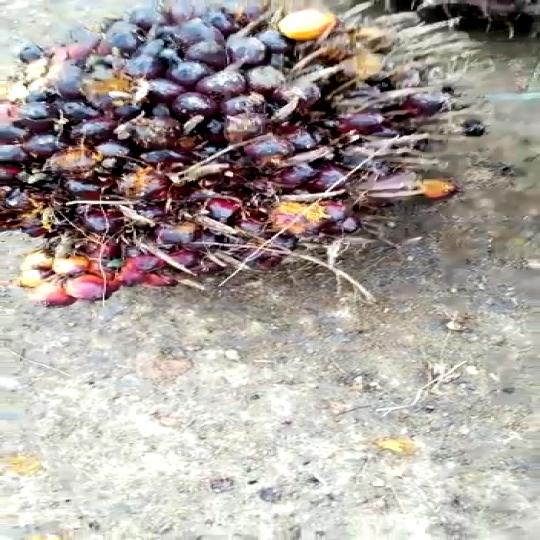masak: (0, 0, 457, 313)
